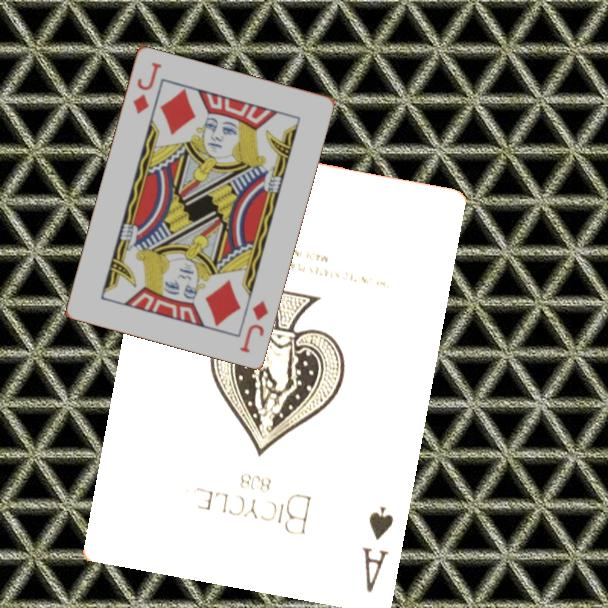d11: (236, 296, 271, 355), (129, 58, 164, 116)
s01: (358, 503, 397, 596)
